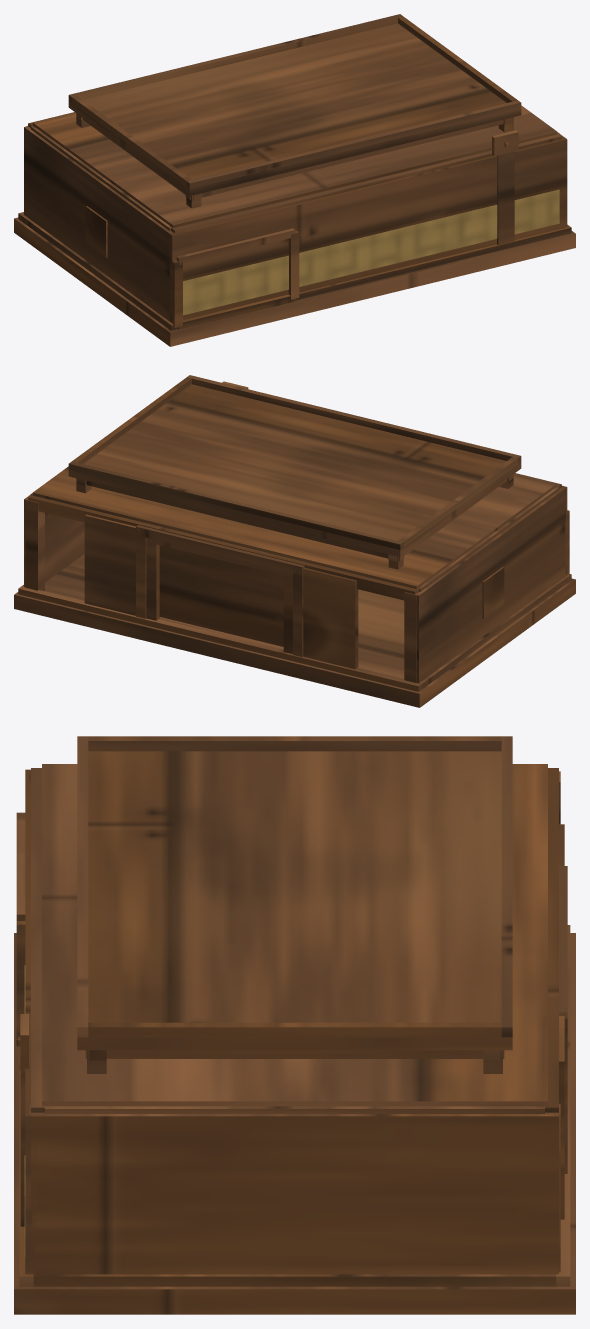
3 views of the same model, one above another, from view 1: azimuth 30°, elevation 25°; view 2: azimuth 150°, elevation 25°; view 3: azimuth 270°, elevation 25° (orthographic). The views are drawn at different scales.
Visible parts, largest first — view 1: SM_HDBF_BoxFarm_Intermediate_LOD2; view 2: SM_HDBF_BoxFarm_Intermediate_LOD2; view 3: SM_HDBF_BoxFarm_Intermediate_LOD2.
Part boxes in pixels (left/top/right/bottom): SM_HDBF_BoxFarm_Intermediate_LOD2: left=14, top=14, right=575, bottom=346; SM_HDBF_BoxFarm_Intermediate_LOD2: left=14, top=375, right=575, bottom=707; SM_HDBF_BoxFarm_Intermediate_LOD2: left=14, top=736, right=575, bottom=1314.
Size of the model in its own units: 3 by 1 by 2.
Materials: 3 (3 with a texture image).
